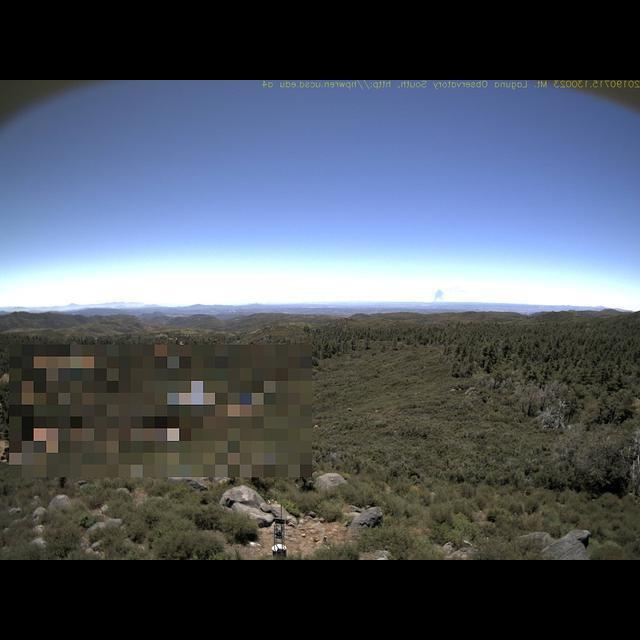Smoke: (427, 284, 450, 309)
